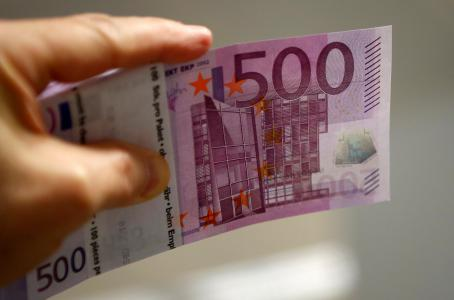billete: (23, 24, 395, 300)
